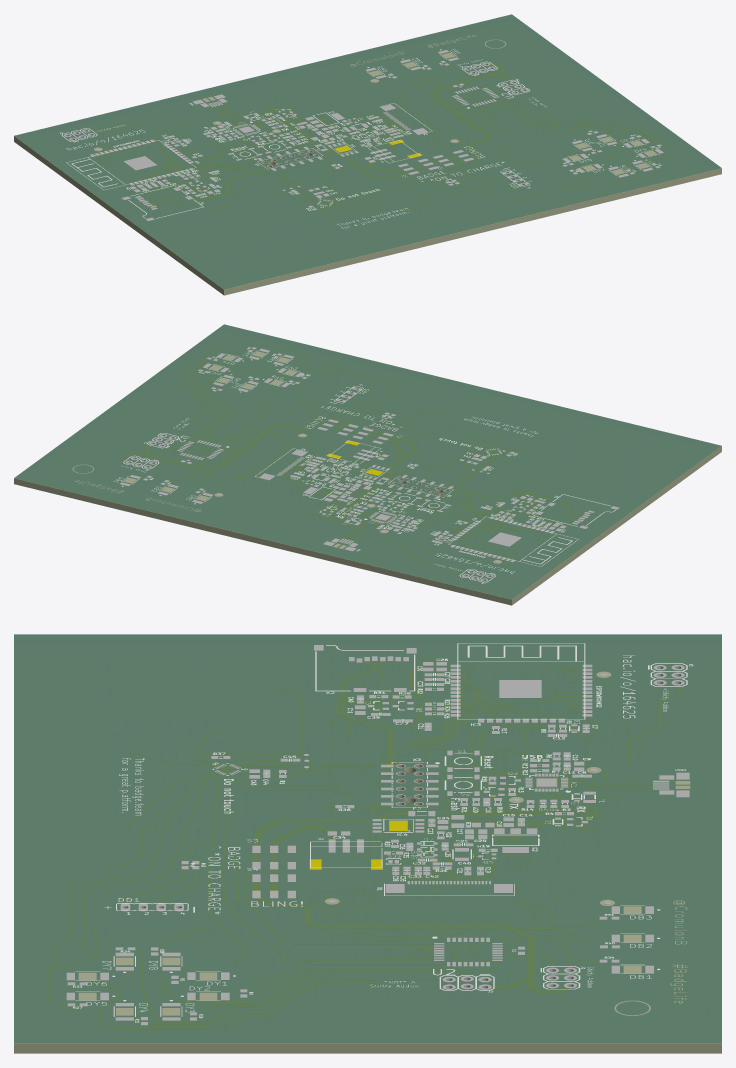
Rendered from dc27-multi-pass.glb.
3 views of the same model, one above another, from view 1: azimuth 30°, elevation 25°; view 2: azimuth 150°, elevation 25°; view 3: azimuth 270°, elevation 25° (orthographic). The views are drawn at different scales.
Parts seen in each view (by area): view 1: =>[0:1:1:7], =>[0:1:1:9], =>[0:1:1:2], =>[0:1:1:5]; view 2: =>[0:1:1:7], =>[0:1:1:9], =>[0:1:1:2], =>[0:1:1:5]; view 3: =>[0:1:1:7], =>[0:1:1:9], =>[0:1:1:2], =>[0:1:1:5].
Boxes of the visible parts, box(x1,y1,x2,y2) form: =>[0:1:1:7]: box(14, 14, 721, 295); =>[0:1:1:9]: box(14, 15, 721, 295); =>[0:1:1:2]: box(64, 50, 673, 260); =>[0:1:1:5]: box(60, 49, 661, 228); =>[0:1:1:7]: box(14, 324, 721, 605); =>[0:1:1:9]: box(14, 325, 721, 605); =>[0:1:1:2]: box(120, 347, 658, 581); =>[0:1:1:5]: box(113, 347, 615, 583); =>[0:1:1:7]: box(14, 634, 721, 1053); =>[0:1:1:9]: box(14, 635, 721, 1053); =>[0:1:1:2]: box(49, 645, 709, 1028); =>[0:1:1:5]: box(73, 643, 693, 1022).
Size of the model in its own units: 0.1372 by 0.00166 by 0.1003.
4 materials, 4 textured.
